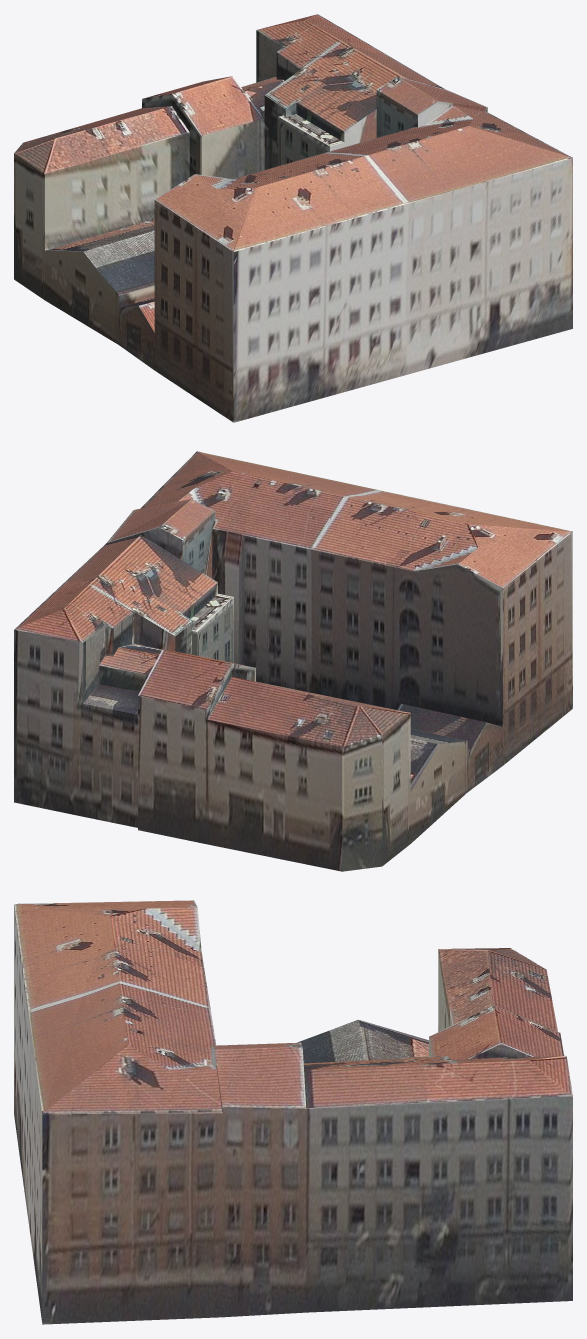
File: LYON_1ER_00097.dae
The picture shows the model from 3 angles, top to bottom: view 1: azimuth 30°, elevation 25°; view 2: azimuth 150°, elevation 25°; view 3: azimuth 270°, elevation 25°; orthographic projection. The views are drawn at different scales.
Bounding box in the file's own units: 45.11 × 48.15 × 22.7.
2 materials, 2 textured.
